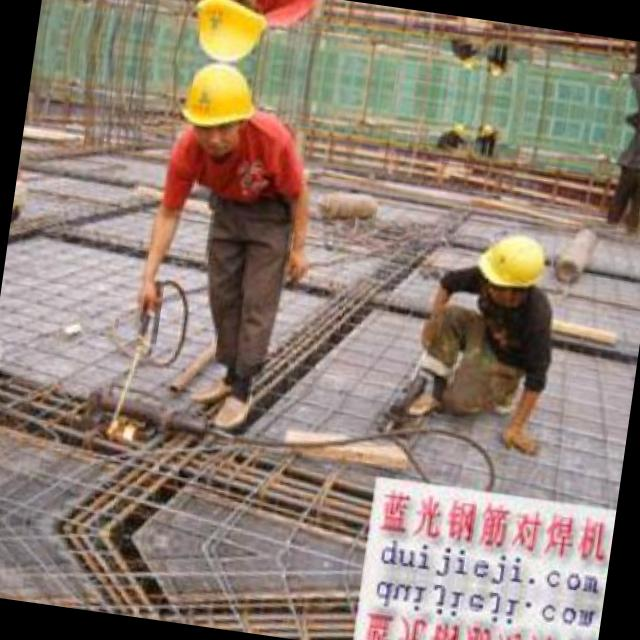helmet: (167, 55, 268, 158), (470, 224, 554, 311), (179, 0, 280, 70)
